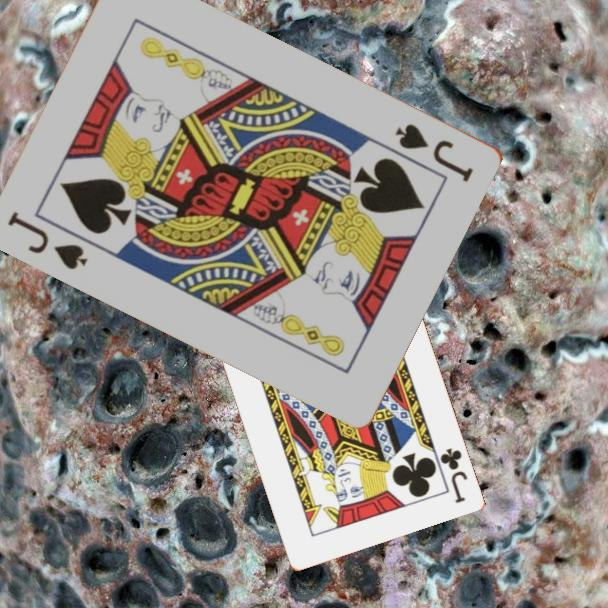c11: (436, 444, 470, 506)
s11: (4, 207, 91, 272), (392, 119, 477, 185)
